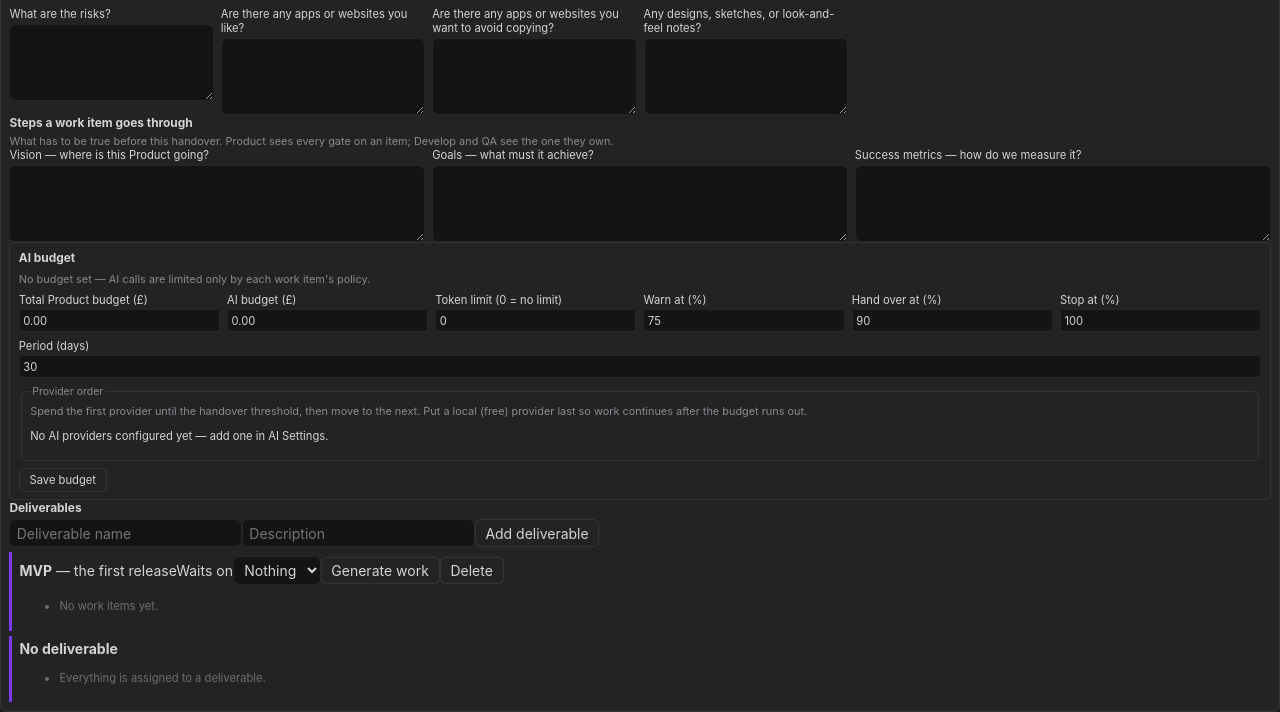
ProductStrategy — generating the work for a Deliverable › generates work and shows the new items under the deliverable
The image size is (1280, 712).
(page scrolled)
Step 1. Click the button with aria-label "Generate work for MVP" → (380, 570), box [320,557,440,584]
(page scrolled)
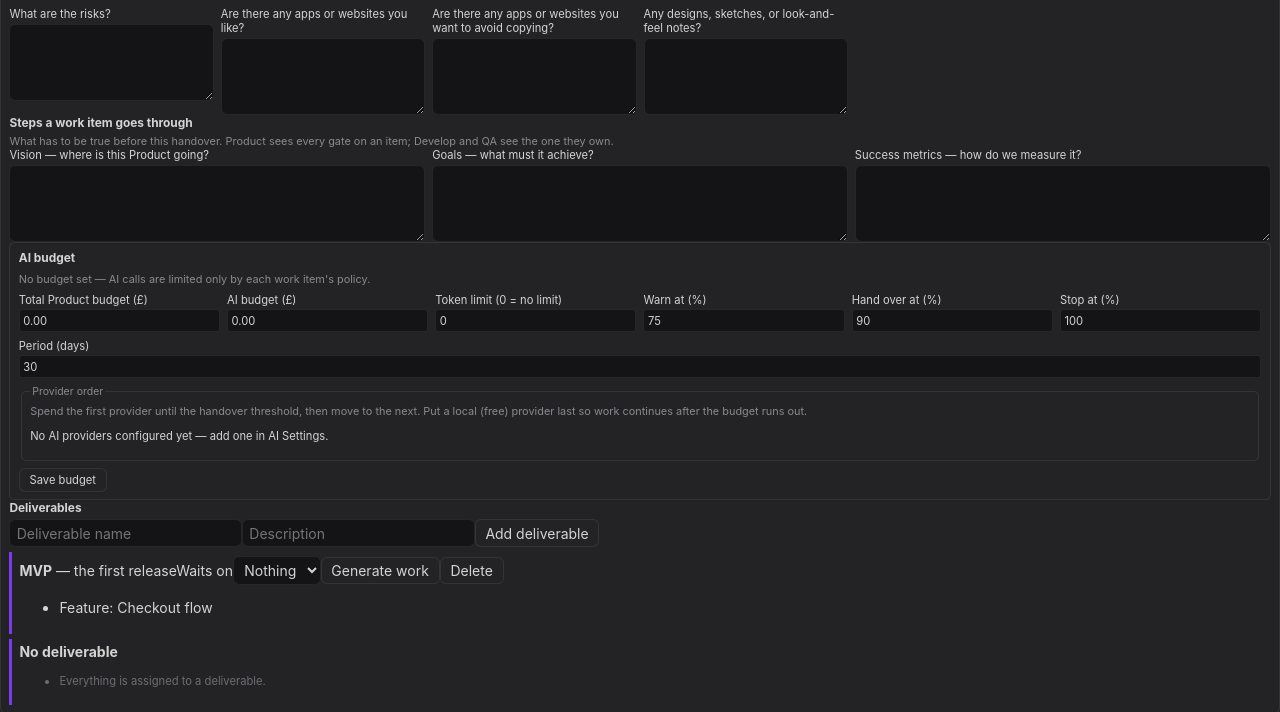
Now the list item "Feature: Checkout flow" is shown, box [59,599,213,616]
